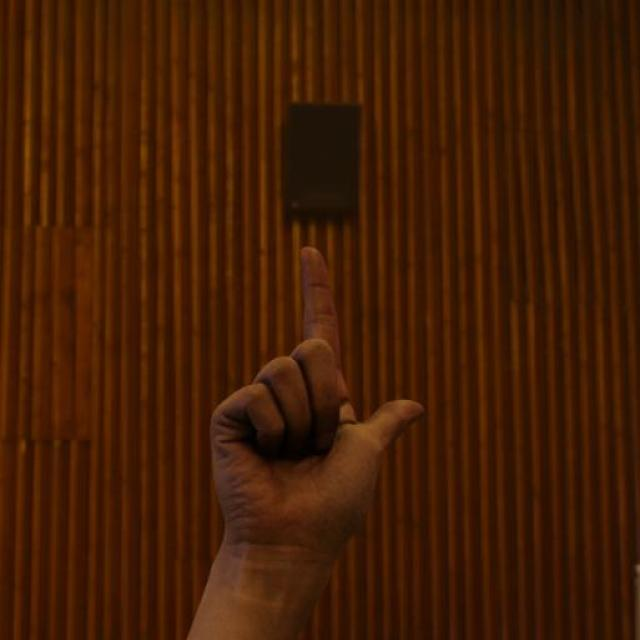L: (205, 244, 428, 558)
